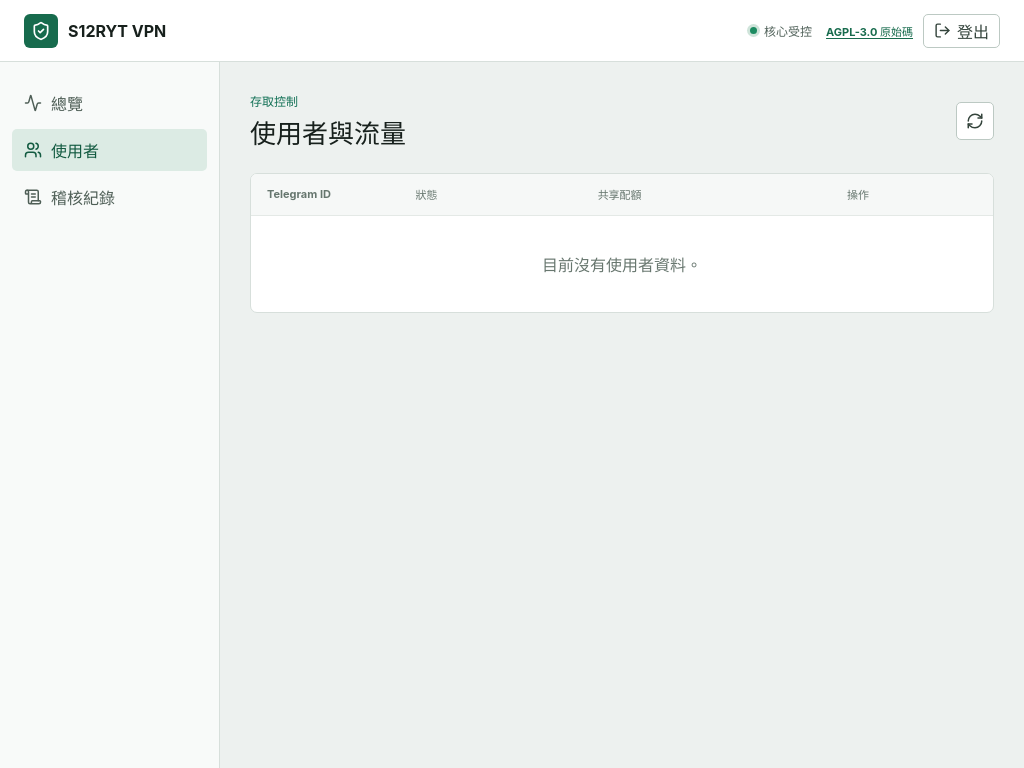
管理面板登入 › 管理者可檢視不含秘密的稽核紀錄
The width and height of the screenshot is (1024, 768).
What coordinates should you click on to do the following:
click the button "稽核紀錄"
I would click on:
 (110, 197)
Its box is [12,176,207,218].
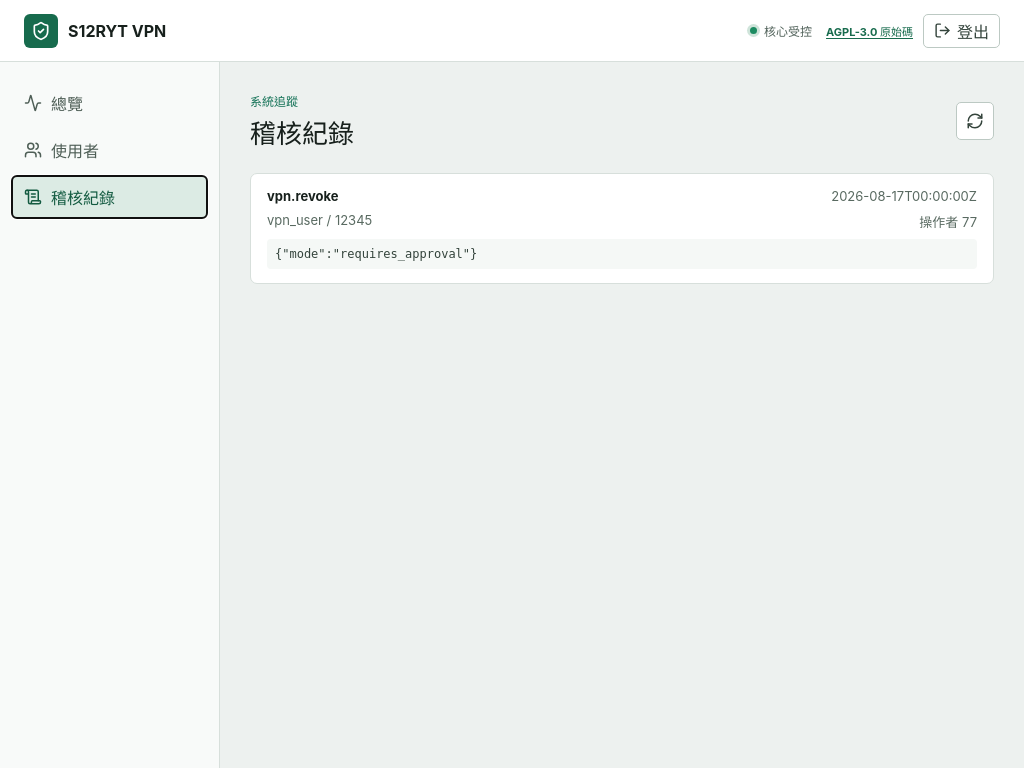
Check: the heading "稽核紀錄" is shown, box [250,118,354,150]
Check: the text "vpn.revoke" is shown, box [267,188,338,204]
Check: the text "vpn_user / 12345" is shown, box [267,212,372,230]
